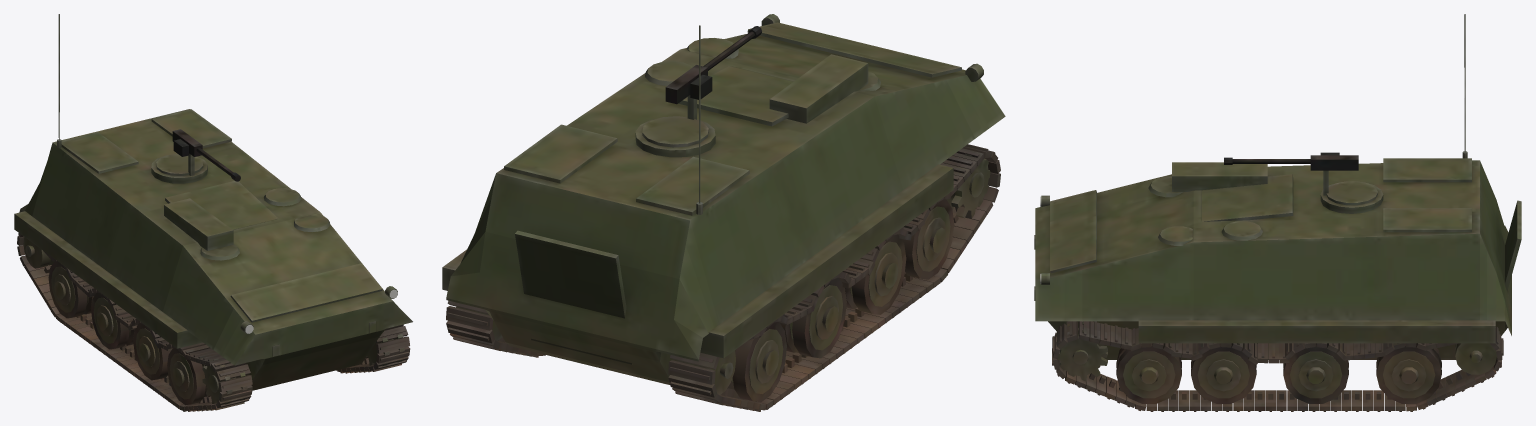
3 renders of one model, left to right at view 1: azimuth 30°, elevation 25°; view 2: azimuth 150°, elevation 25°; view 3: azimuth 270°, elevation 25°, orthographic. The views are drawn at different scales.
Visible parts, largest first — view 1: than, xich_phai, nap_khoang_phai, banh_phai_1, xich_trai, nap_khoang_trai, banh_phai_4, banh_phai_3, banh_phai_2, sung_may, nap_chi_huy, vom_chi_huy (+5 smaller); view 2: than, xich_phai, cua_sau, nap_khoang_trai, nap_khoang_phai, banh_phai_4, banh_phai_3, banh_phai_2, banh_phai_1, xich_trai, sung_may, nap_chi_huy (+5 smaller); view 3: than, xich_trai, banh_trai_4, banh_trai_1, banh_trai_3, banh_trai_2, nap_khoang_phai, nap_khoang_trai, banh_chu_dong_trai, sung_may, banh_dan_huong_trai, nap_chi_huy (+5 smaller).
Boxes of the visible parts, x1,y1,x2,y2 form: than: (14, 109, 412, 390); xich_phai: (17, 233, 252, 411); nap_khoang_phai: (61, 132, 138, 173); banh_phai_1: (167, 348, 210, 405); xich_trai: (336, 324, 410, 373); nap_khoang_trai: (151, 109, 231, 148); banh_phai_4: (48, 261, 93, 318); banh_phai_3: (91, 292, 134, 349); banh_phai_2: (133, 323, 170, 380); sung_may: (172, 129, 240, 181); nap_chi_huy: (156, 154, 203, 175); vom_chi_huy: (151, 153, 207, 183); than: (442, 14, 1005, 384); xich_phai: (668, 144, 1000, 411); cua_sau: (515, 230, 632, 364); nap_khoang_trai: (504, 124, 617, 183); nap_khoang_phai: (636, 156, 749, 215); banh_phai_4: (727, 321, 786, 402); banh_phai_3: (780, 277, 846, 358); banh_phai_2: (845, 234, 906, 314); banh_phai_1: (901, 199, 954, 279); xich_trai: (446, 300, 545, 357); sung_may: (665, 26, 761, 104); nap_chi_huy: (642, 116, 708, 147); than: (1034, 160, 1511, 359); xich_trai: (1052, 321, 1503, 411); banh_trai_4: (1376, 343, 1441, 403); banh_trai_1: (1116, 343, 1181, 403); banh_trai_3: (1283, 343, 1348, 403); banh_trai_2: (1191, 343, 1256, 403); nap_khoang_phai: (1383, 158, 1471, 182); nap_khoang_trai: (1383, 208, 1471, 232); banh_chu_dong_trai: (1056, 321, 1107, 381); sung_may: (1224, 152, 1358, 170); banh_dan_huong_trai: (1455, 343, 1496, 374); nap_chi_huy: (1326, 181, 1377, 205).
Size of the model in its own units: 2.9 by 3.95 by 5.6.
1 material, 1 textured.
